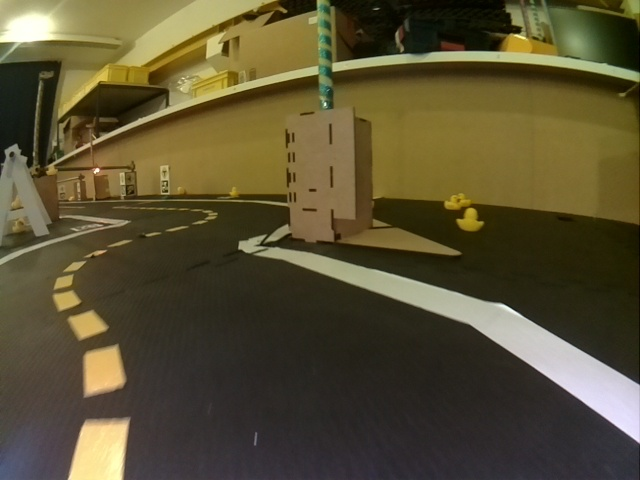Duckie: (458, 209, 482, 231), (445, 196, 459, 210), (176, 187, 185, 196), (458, 192, 466, 201), (230, 187, 239, 195)
Intersection sign: (161, 166, 168, 179), (126, 173, 134, 182)
QR code: (71, 223, 102, 231), (160, 181, 169, 192), (126, 187, 135, 194)
